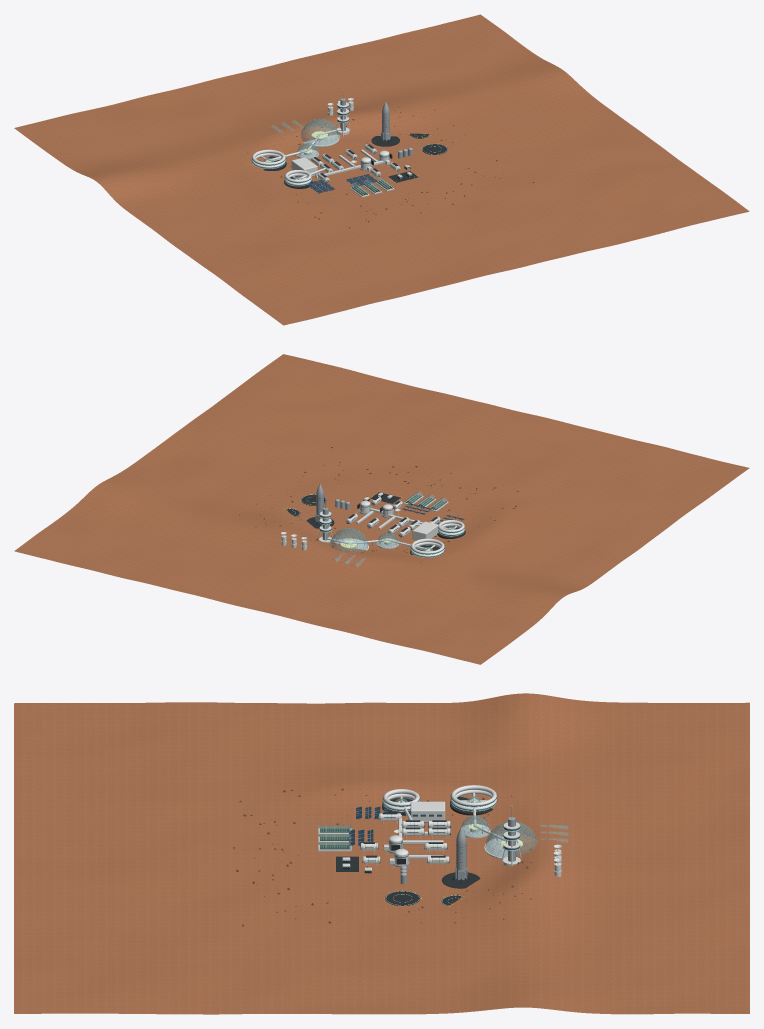
File: mars-outpost-v2.glb
3 views of the same model, one above another, from view 1: azimuth 30°, elevation 25°; view 2: azimuth 150°, elevation 25°; view 3: azimuth 270°, elevation 25° (orthographic). The views are drawn at different scales.
Parts seen in each view (by area): view 1: Mars regolith, Ceramic pressure skin, Transparent pressure glazing, Graphite composite, Titanium structure; view 2: Mars regolith, Ceramic pressure skin, Transparent pressure glazing, Titanium structure, Graphite composite; view 3: Mars regolith, Ceramic pressure skin, Graphite composite, Transparent pressure glazing, Titanium structure, Coated blue glazing.
Part boxes in pixels (x1,y1,x2,y2): Mars regolith: (14,14,749,325); Ceramic pressure skin: (252,98,412,197); Transparent pressure glazing: (263,118,393,195); Graphite composite: (263,122,447,195); Titanium structure: (255,90,418,195); Mars regolith: (14,354,749,664); Ceramic pressure skin: (281,492,464,557); Transparent pressure glazing: (330,492,455,566); Titanium structure: (304,484,462,565); Graphite composite: (286,492,465,554); Mars regolith: (14,693,749,1014); Ceramic pressure skin: (318,785,561,876); Graphite composite: (320,796,492,905); Transparent pressure glazing: (319,796,568,857); Titanium structure: (318,786,561,884); Coated blue glazing: (342,794,520,866).
Size of the model in its own units: 640 by 58.55 by 640.
12 materials, 1 textured.
